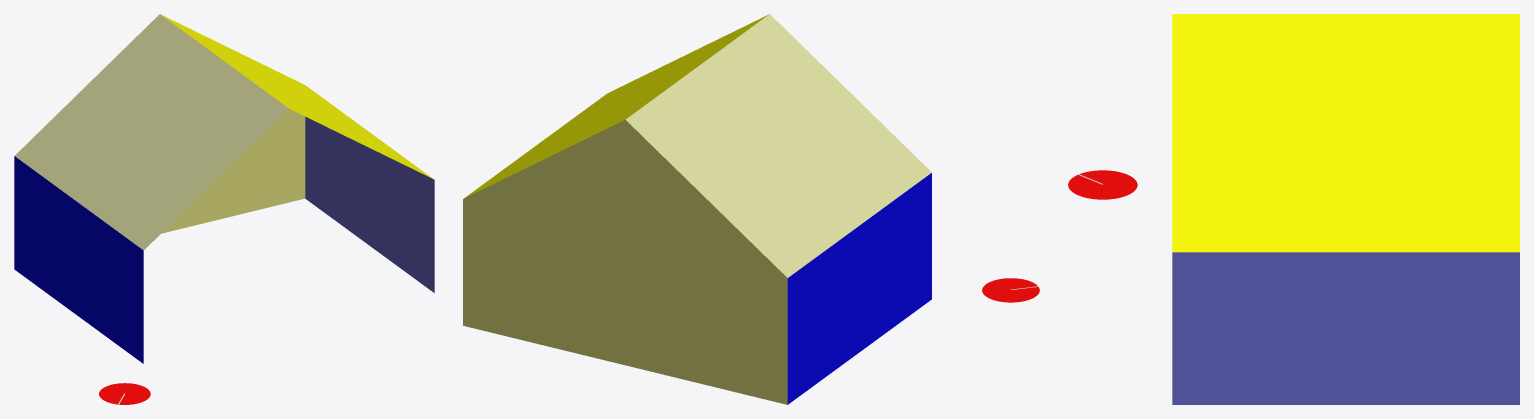
Rendered from result.glb.
The picture shows the model from 3 angles, left to right: view 1: azimuth 30°, elevation 25°; view 2: azimuth 150°, elevation 25°; view 3: azimuth 270°, elevation 25°; orthographic projection. The views are drawn at different scales.
Visible parts, largest first — view 1: 8054df00-4555-4d27-801b-433aca2826f8__undefined, 05196f41-8a32-48e9-842e-fd0a6c870fb5__undefined, 42f7236b-c987-448e-9f50-2b726d408033__undefined, e3c8c556-dfe1-44e0-9726-301837665d05__undefined, 02c99fba-142a-40c9-b739-1b2253a39e8b__undefined, 91fbb7c4-b95f-45f3-8ddb-8b8aef810cdb__Circle; view 2: e3c8c556-dfe1-44e0-9726-301837665d05__undefined, 8054df00-4555-4d27-801b-433aca2826f8__undefined, 05196f41-8a32-48e9-842e-fd0a6c870fb5__undefined, 02c99fba-142a-40c9-b739-1b2253a39e8b__undefined, 91fbb7c4-b95f-45f3-8ddb-8b8aef810cdb__Circle; view 3: 02c99fba-142a-40c9-b739-1b2253a39e8b__undefined, 42f7236b-c987-448e-9f50-2b726d408033__undefined, 91fbb7c4-b95f-45f3-8ddb-8b8aef810cdb__Circle.
Boxes of the visible parts, box(x1,y1,x2,y2) form: 8054df00-4555-4d27-801b-433aca2826f8__undefined: box(15, 14, 288, 250); 05196f41-8a32-48e9-842e-fd0a6c870fb5__undefined: box(14, 156, 143, 363); 42f7236b-c987-448e-9f50-2b726d408033__undefined: box(305, 116, 434, 292); e3c8c556-dfe1-44e0-9726-301837665d05__undefined: box(161, 108, 305, 233); 02c99fba-142a-40c9-b739-1b2253a39e8b__undefined: box(160, 14, 432, 178); 91fbb7c4-b95f-45f3-8ddb-8b8aef810cdb__Circle: box(99, 383, 150, 404); e3c8c556-dfe1-44e0-9726-301837665d05__undefined: box(463, 119, 787, 404); 8054df00-4555-4d27-801b-433aca2826f8__undefined: box(625, 14, 931, 277); 05196f41-8a32-48e9-842e-fd0a6c870fb5__undefined: box(787, 173, 931, 404); 02c99fba-142a-40c9-b739-1b2253a39e8b__undefined: box(464, 14, 768, 198); 91fbb7c4-b95f-45f3-8ddb-8b8aef810cdb__Circle: box(982, 278, 1039, 302); 02c99fba-142a-40c9-b739-1b2253a39e8b__undefined: box(1172, 14, 1519, 252); 42f7236b-c987-448e-9f50-2b726d408033__undefined: box(1172, 252, 1519, 404); 91fbb7c4-b95f-45f3-8ddb-8b8aef810cdb__Circle: box(1068, 170, 1137, 199).
Size of the model in its own units: 799 by 469 by 650.
